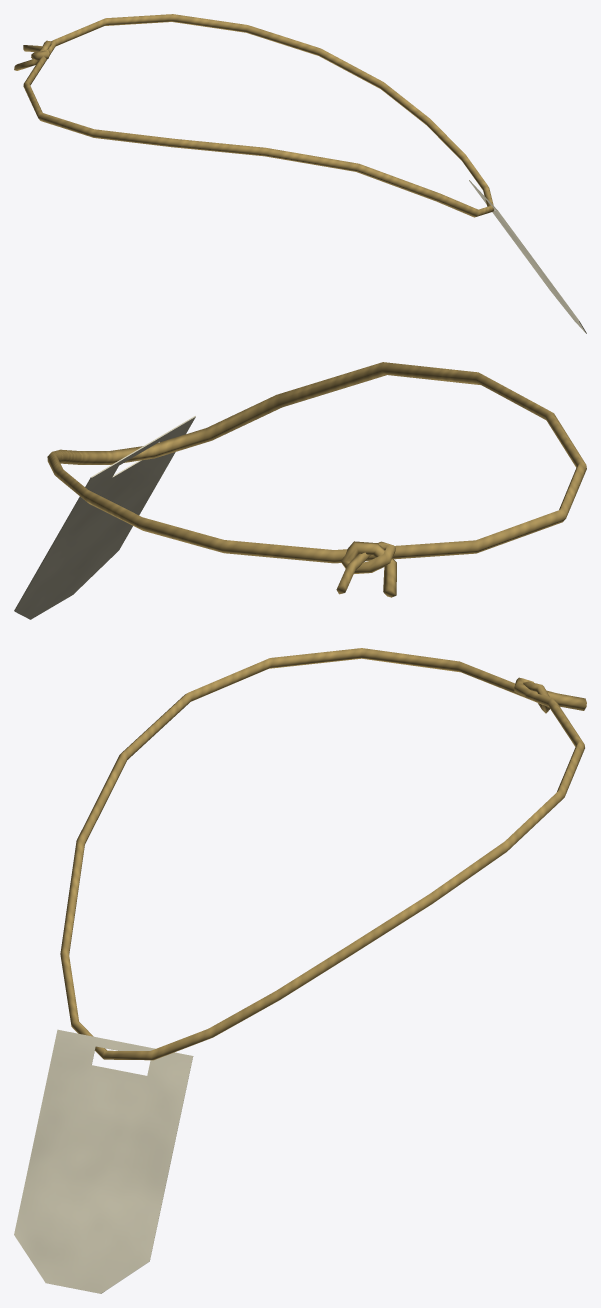
The model's file is tag-flat_bottom.glb.
3 renders of one model, top to bottom at view 1: azimuth 30°, elevation 25°; view 2: azimuth 150°, elevation 25°; view 3: azimuth 270°, elevation 25°, orthographic. The views are drawn at different scales.
Visible parts, largest first — view 1: string-flat_bottom, tag-flat_bottom; view 2: string-flat_bottom, tag-flat_bottom; view 3: tag-flat_bottom, string-flat_bottom.
Part boxes in pixels (<box>): string-flat_bottom: <box>14,14,494,217</box>; tag-flat_bottom: <box>469,180,586,333</box>; string-flat_bottom: <box>47,362,586,597</box>; tag-flat_bottom: <box>14,416,195,619</box>; tag-flat_bottom: <box>14,1029,193,1293</box>; string-flat_bottom: <box>60,648,586,1060</box>.
Size of the model in its own units: 0.0656 by 0.0361 by 0.0525.
Materials: 2 (2 with a texture image).
